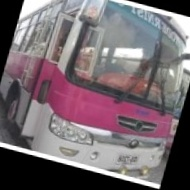bus: (0, 0, 190, 183)
